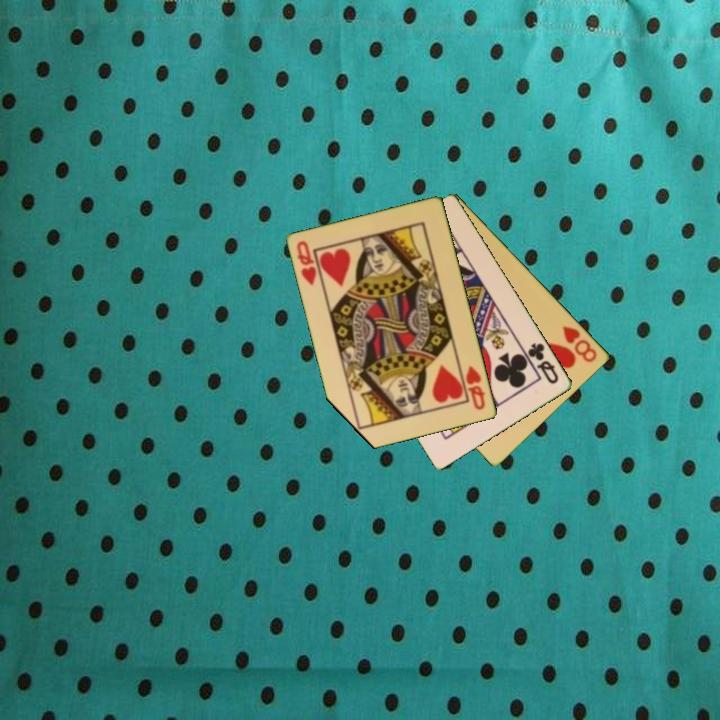8h: (559, 322, 600, 365)
Qc: (525, 339, 562, 387)
Qh: (293, 237, 320, 289), (463, 362, 488, 413)
